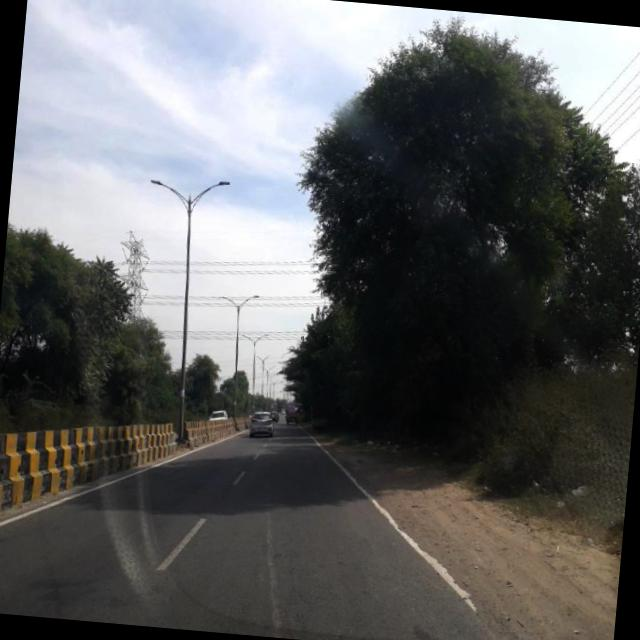crack: (252, 481, 292, 625)
